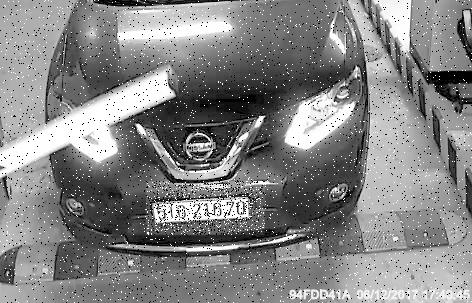License-plate: (148, 182, 268, 236)
